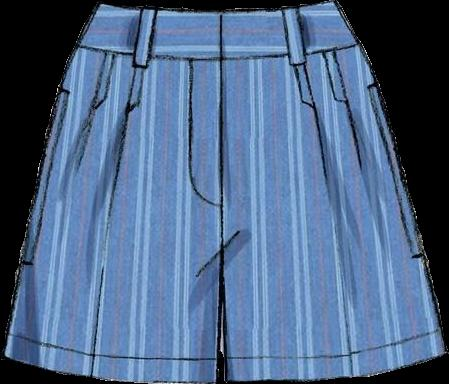Pantleg: (219, 1, 444, 381), (5, 3, 220, 383)
Waistline: (75, 42, 360, 64), (97, 0, 338, 13)
